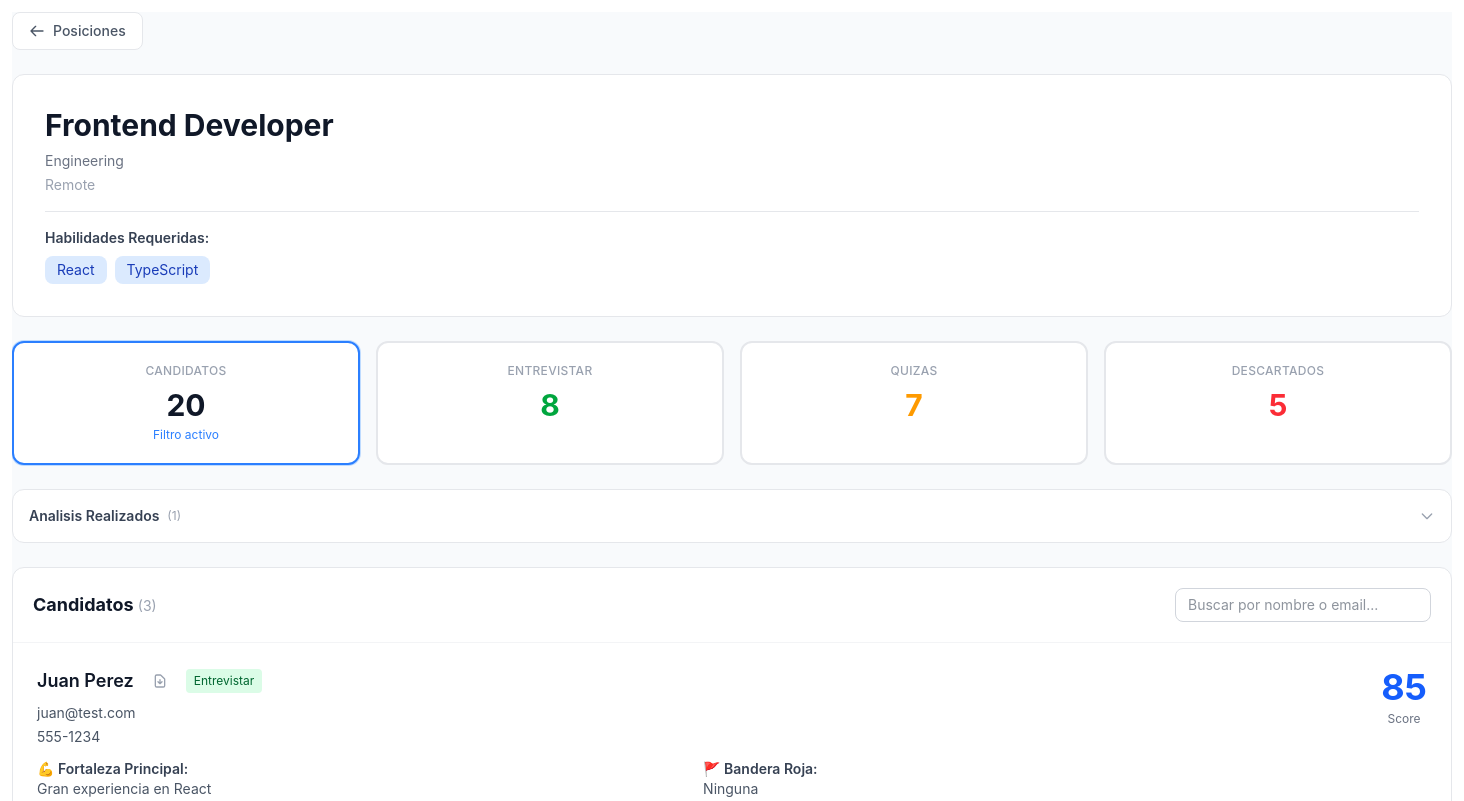
Test: PositionAnalytics › expands analyses section on click
The image size is (1464, 801).
Click the heading "Analisis Realizados": (94,516) [29, 506, 159, 526]
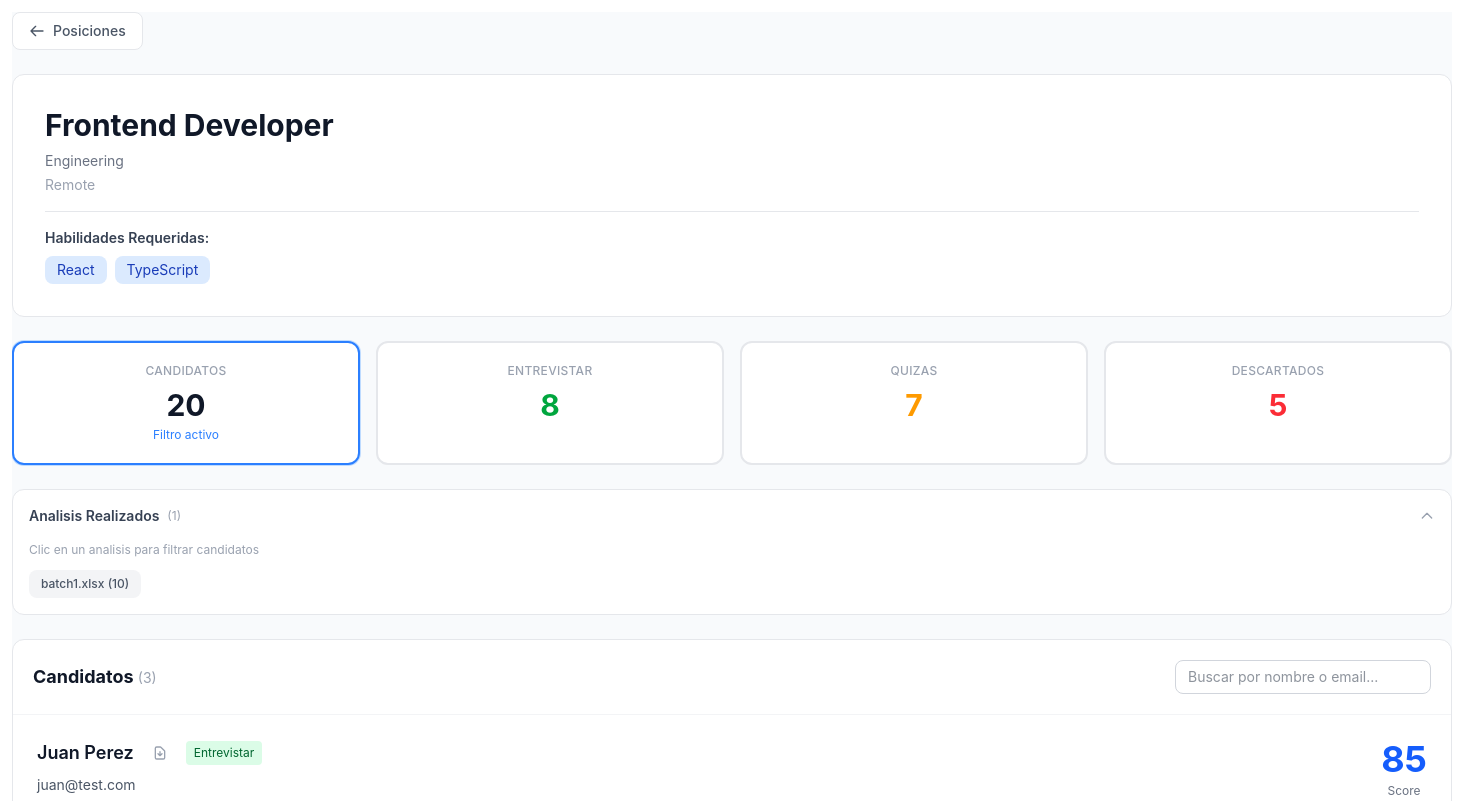
Check: the button "batch1.xlsx (10)" is shown, box [29, 570, 141, 598]
